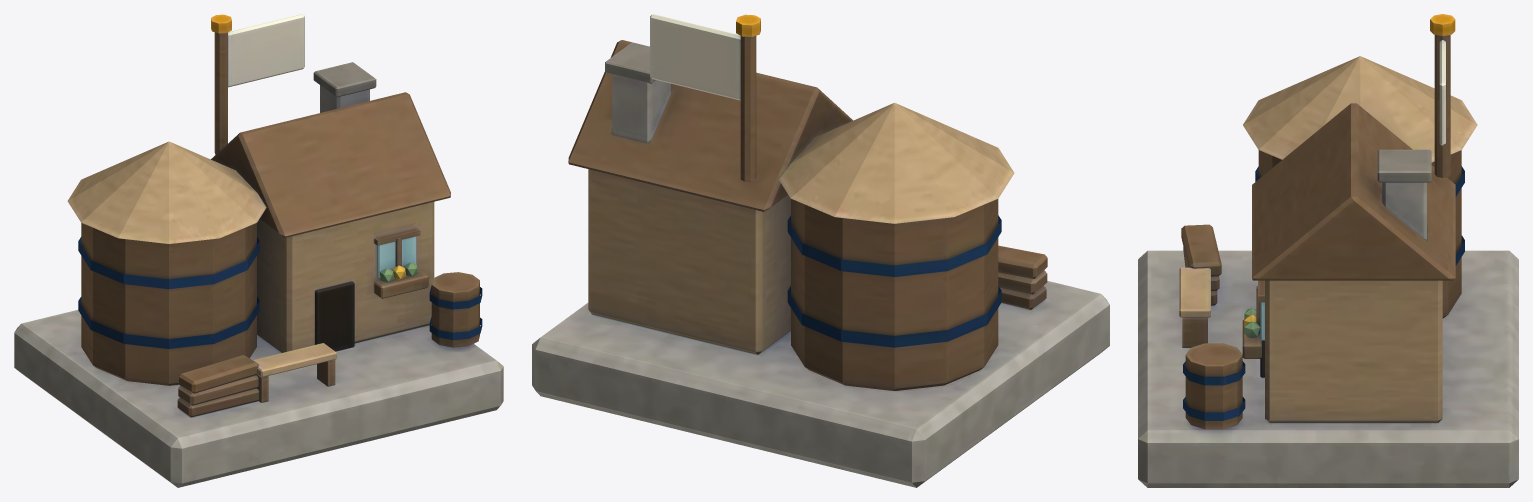
Rendered from refinery-5.glb.
The picture shows the model from 3 angles, left to right: view 1: azimuth 30°, elevation 25°; view 2: azimuth 150°, elevation 25°; view 3: azimuth 270°, elevation 25°; orthographic projection. The views are drawn at different scales.
Parts seen in each view (by area): view 1: refinery-5; view 2: refinery-5; view 3: refinery-5.
Part boxes in pixels (<box>): refinery-5: <box>14,14,503,487</box>; refinery-5: <box>532,14,1109,487</box>; refinery-5: <box>1138,14,1518,487</box>.
Bounding box in the file's own units: 1.41 × 1.34 × 1.2.
1 material, 1 textured.
